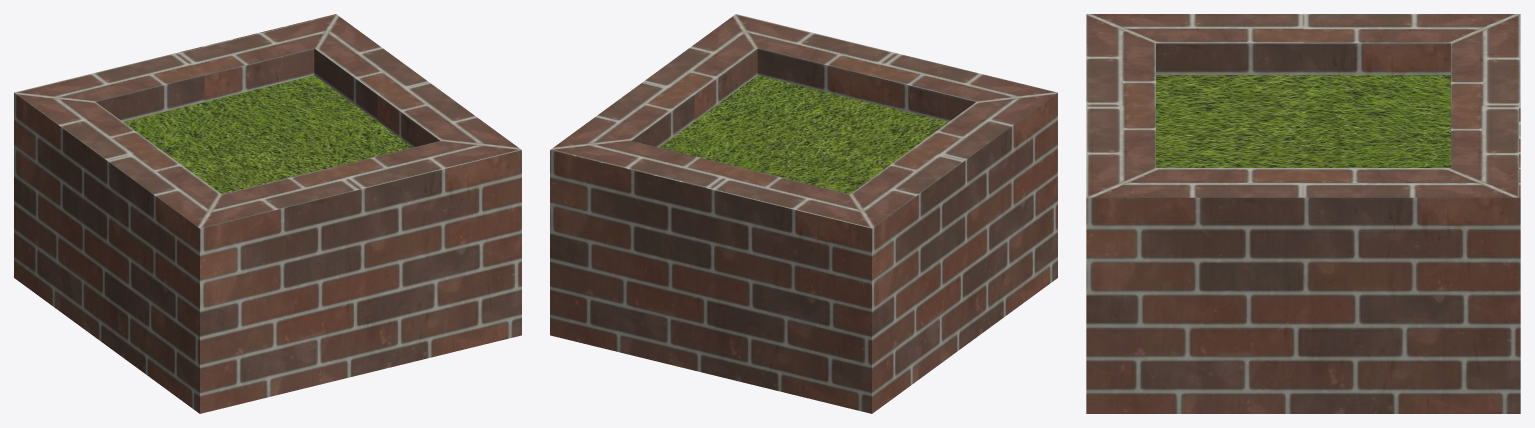
Rendered from platform_half.dae.
The picture shows the model from 3 angles, left to right: view 1: azimuth 30°, elevation 25°; view 2: azimuth 150°, elevation 25°; view 3: azimuth 270°, elevation 25°; orthographic projection. The views are drawn at different scales.
Visible parts, largest first — view 1: group_0 (×4); view 2: group_0 (×4); view 3: group_0 (×4).
Boxes of the visible parts, <box> form: group_0 (×4): <box>14,14,521,413</box>; group_0 (×4): <box>550,14,1057,413</box>; group_0 (×4): <box>1086,14,1520,413</box>.
Bounding box in the file's own units: 19.69 × 19.69 × 10.83.
3 materials, 3 textured.
